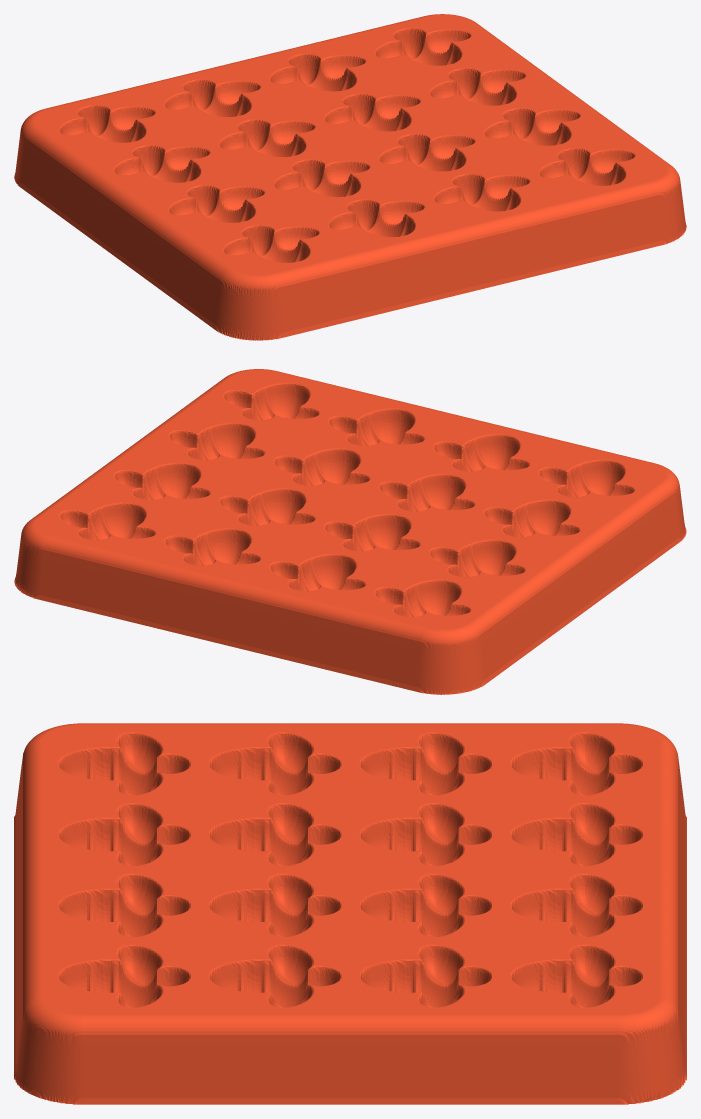
Rendered from mold.glb.
The picture shows the model from 3 angles, top to bottom: view 1: azimuth 30°, elevation 25°; view 2: azimuth 150°, elevation 25°; view 3: azimuth 270°, elevation 25°; orthographic projection. The views are drawn at different scales.
Parts seen in each view (by area): view 1: geometry_0; view 2: geometry_0; view 3: geometry_0.
Boxes of the visible parts, bbox=[...] form: geometry_0: bbox=[14, 14, 686, 340]; geometry_0: bbox=[14, 369, 686, 694]; geometry_0: bbox=[14, 723, 686, 1104].
Size of the model in its own units: 0.0972 by 0.0114 by 0.0884.
